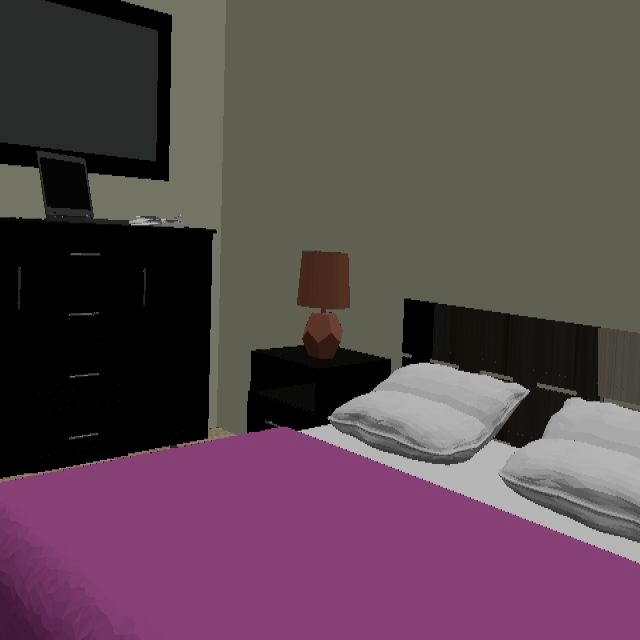bed: (0, 428, 640, 640)
book: (130, 213, 184, 229)
cabinet: (0, 219, 215, 480)
lamp: (297, 251, 351, 360)
laptop: (36, 152, 129, 225)
nighttable: (249, 347, 394, 432)
pillow: (498, 397, 640, 544), (328, 363, 530, 465)
